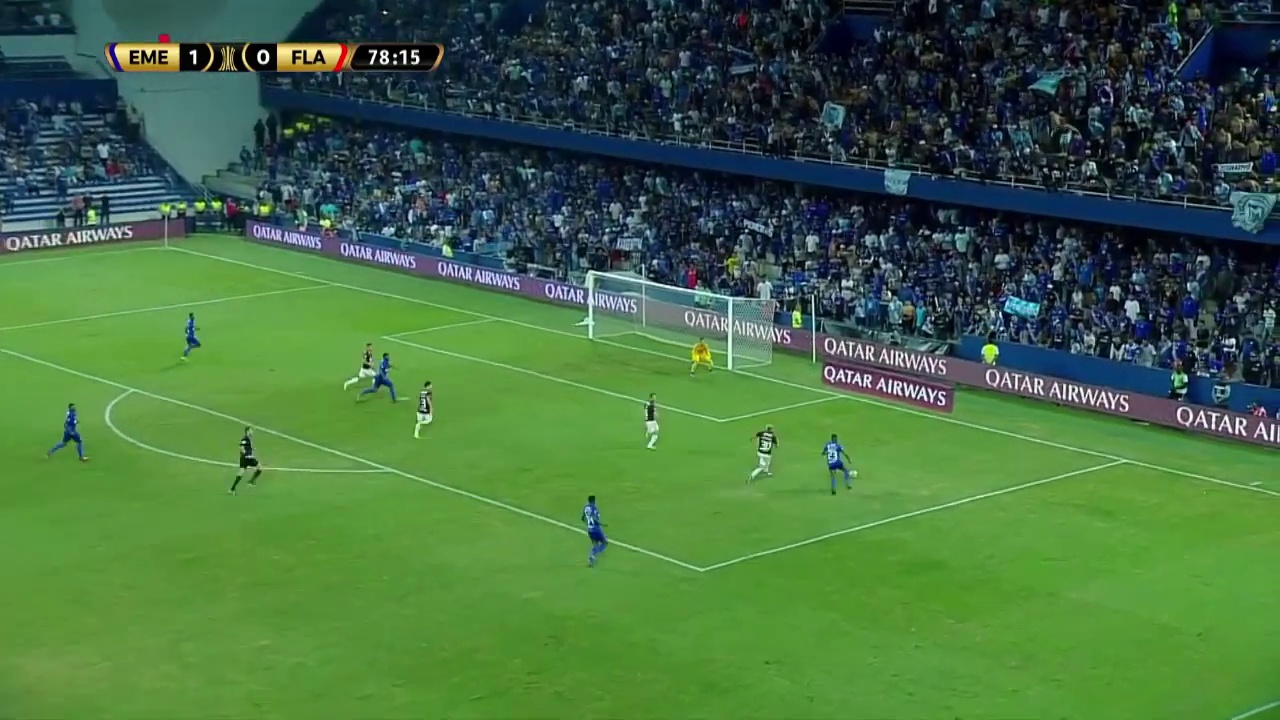ball: (849, 468, 859, 478)
player: (44, 401, 92, 465), (577, 493, 614, 569), (357, 350, 402, 405), (744, 423, 780, 485), (820, 433, 854, 496), (341, 341, 378, 393), (408, 379, 438, 439), (176, 311, 205, 363), (639, 391, 664, 451), (685, 337, 717, 378)
referee: (226, 424, 266, 496)
